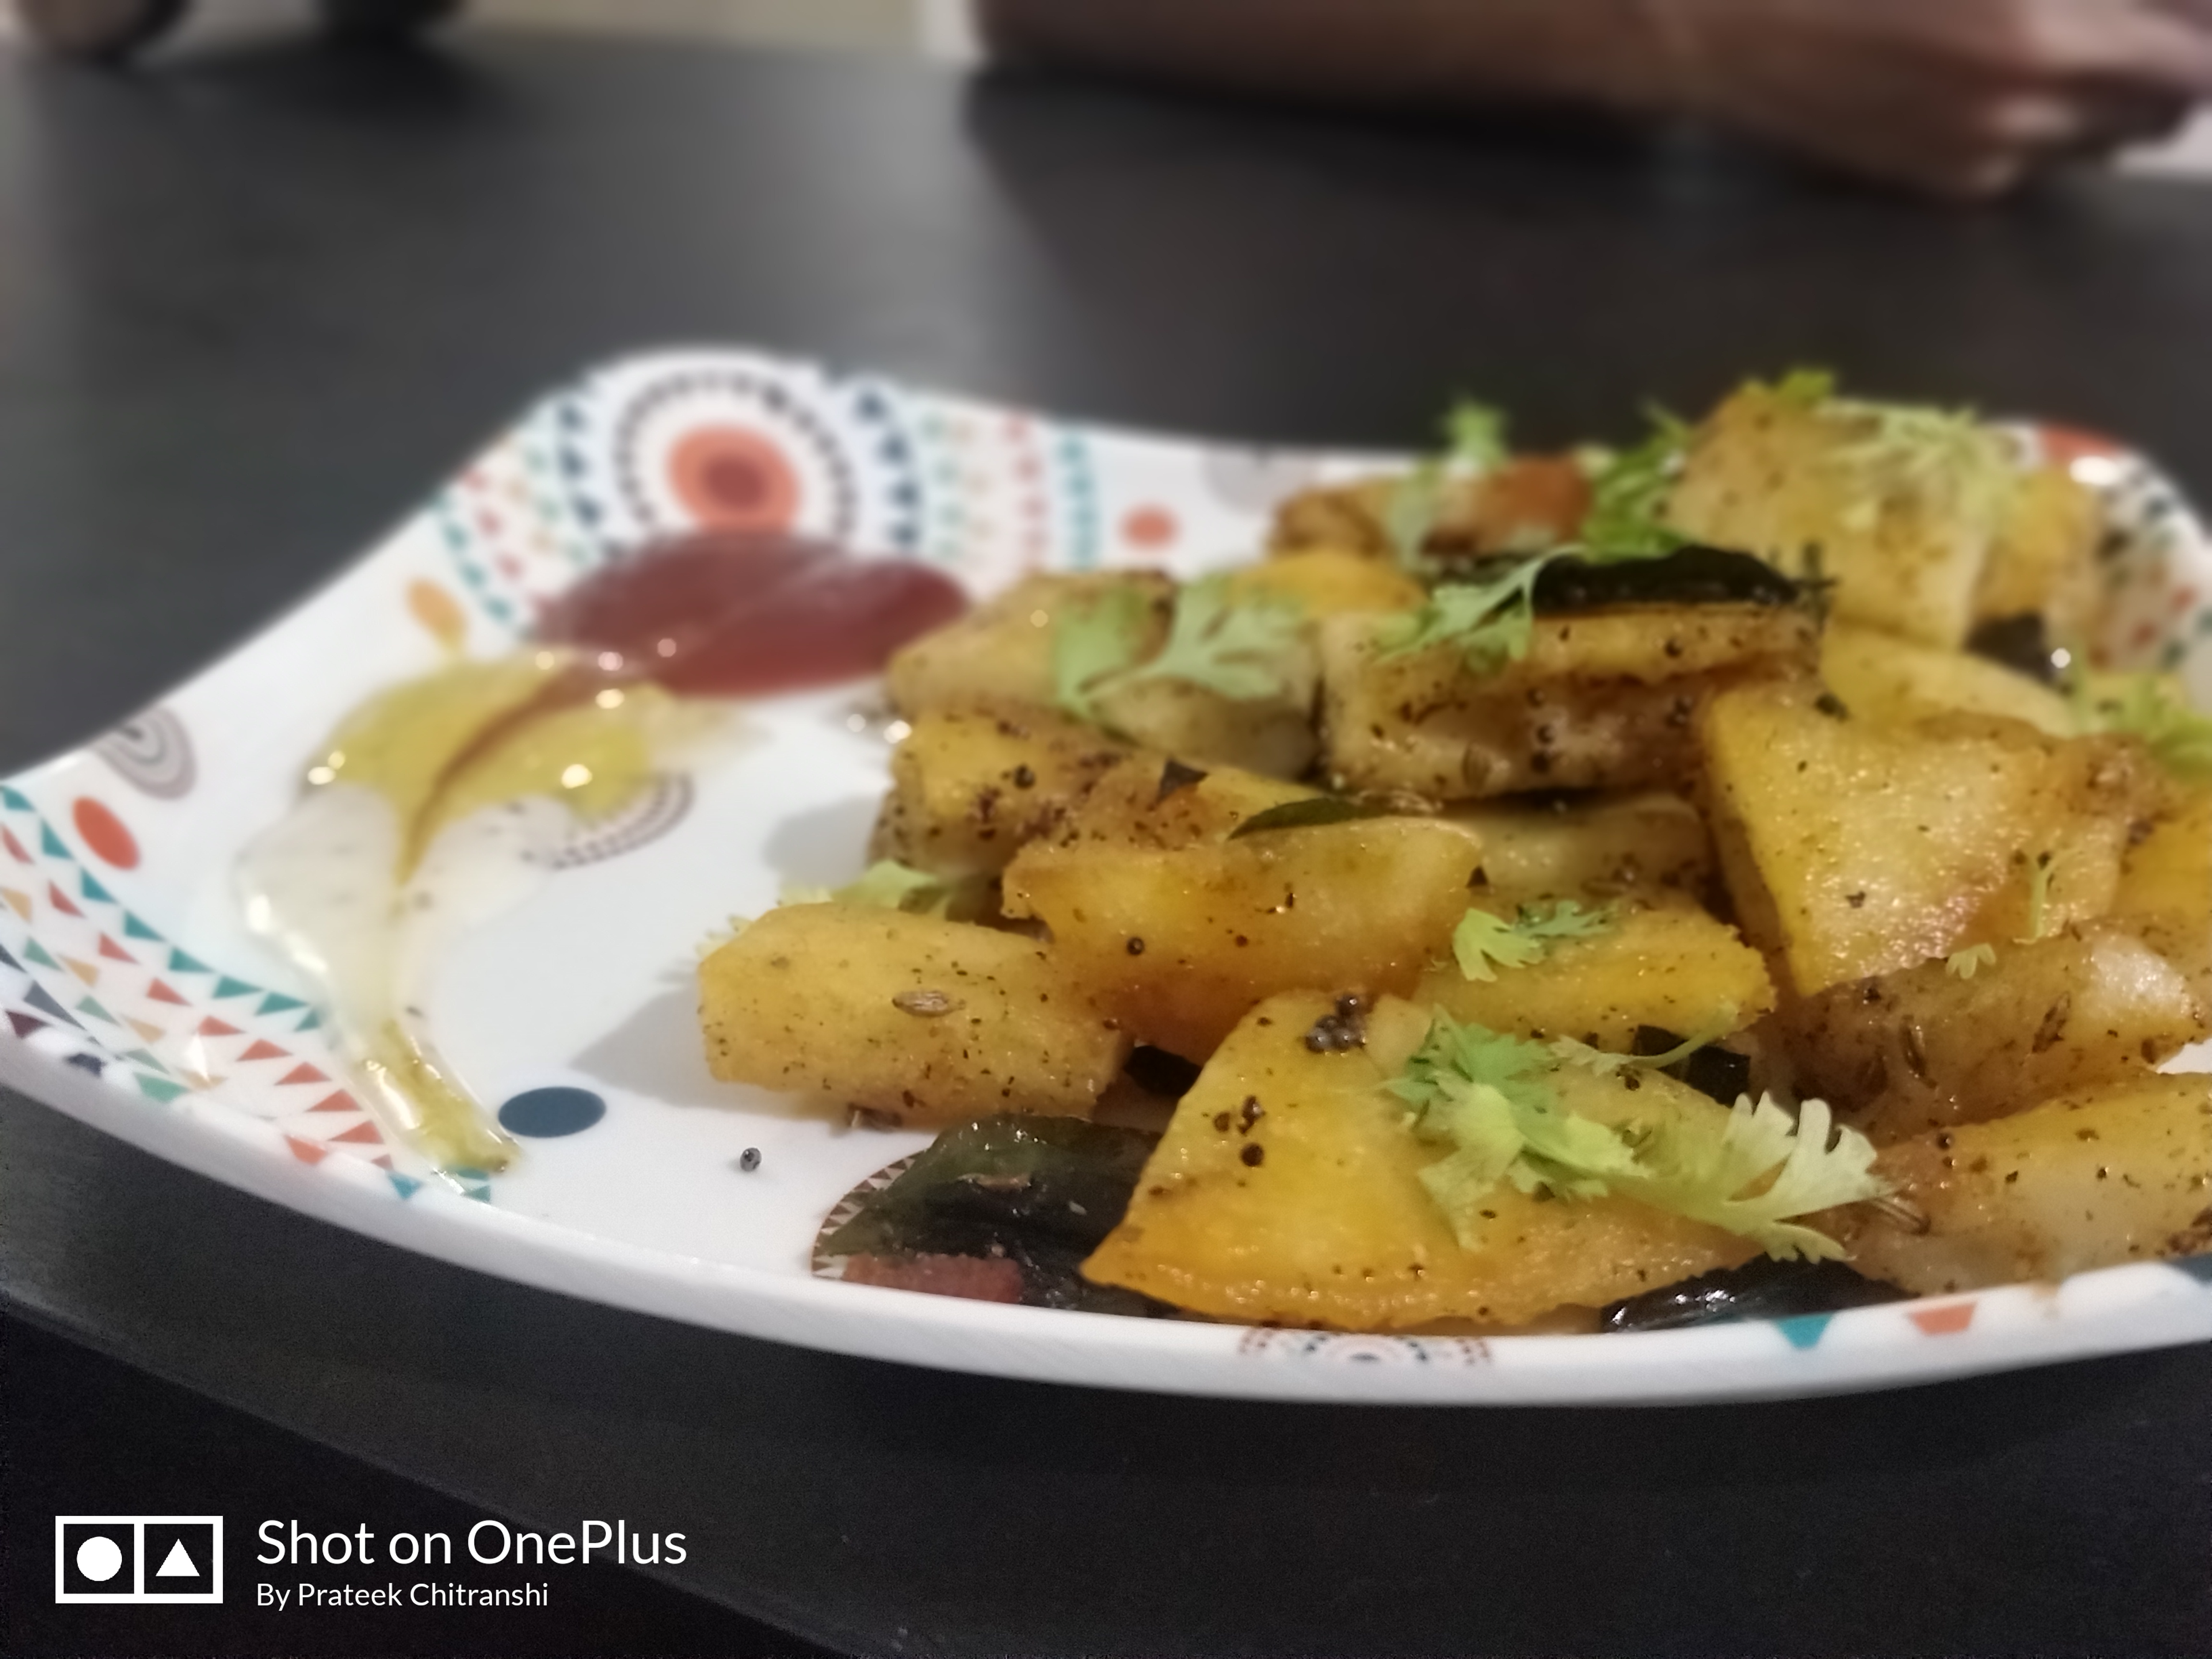food: (218, 355, 2212, 1345)
